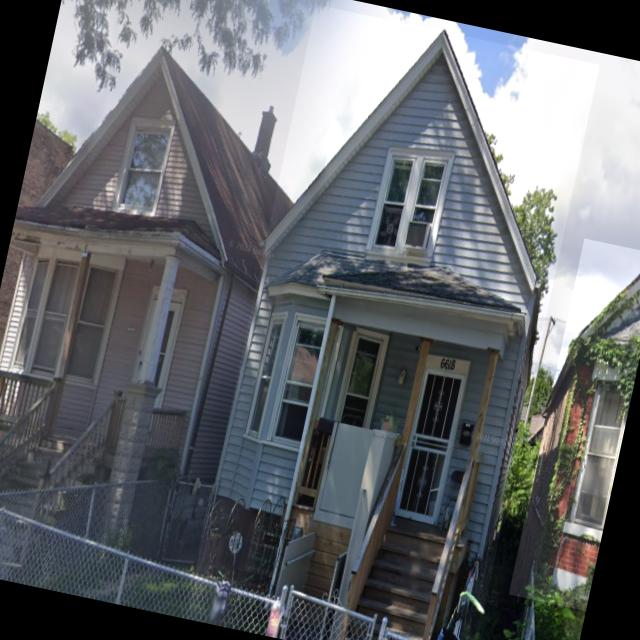House: (184, 4, 599, 640), (0, 20, 323, 623), (508, 239, 640, 611)
